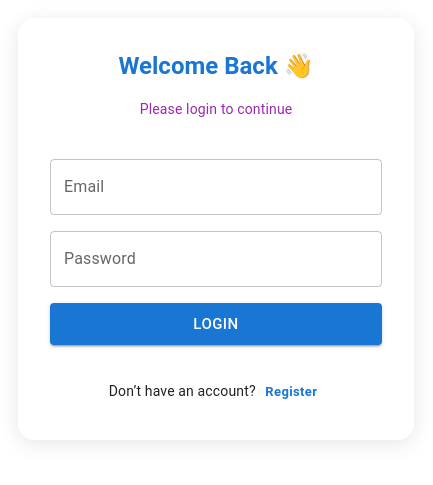
Scenario: LoginComponent › shows validation errors when submitting empty form
The image size is (433, 485).
Click the button "Login": point(216, 324) [50,302,382,345]
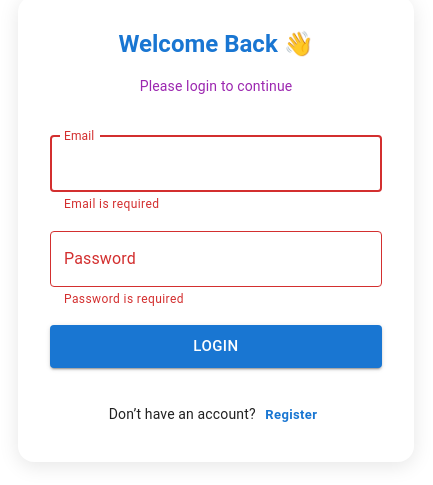
expect the text "Email is required" is shown: met, box [64,197,159,211]
expect the text "Password is required" is shown: met, box [64,292,184,306]
